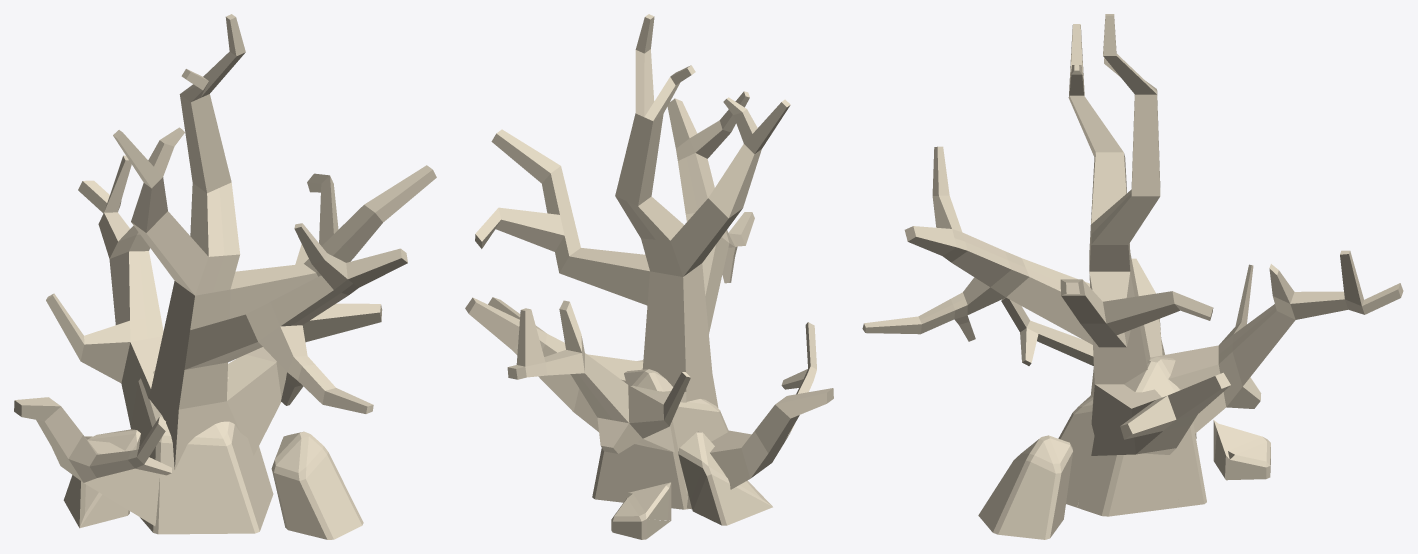
The model's file is coral-0-near.glb.
3 views of the same model, side by side, from view 1: azimuth 30°, elevation 25°; view 2: azimuth 150°, elevation 25°; view 3: azimuth 270°, elevation 25° (orthographic). The views are drawn at different scales.
Parts seen in each view (by area): view 1: coral; view 2: coral; view 3: coral.
Part boxes in pixels (x1,y1,x2,y2): coral: (14,14,436,539); coral: (465,14,833,539); coral: (862,14,1403,539).
Size of the model in its own units: 0.8256 by 0.9853 by 1.
